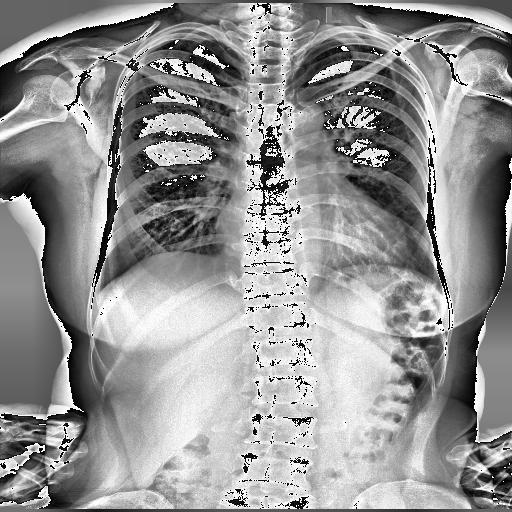11- Pleural thickening: (144, 28, 222, 42)
3- Cardiomegaly: (214, 203, 412, 266), (215, 206, 411, 268), (217, 210, 412, 270)
